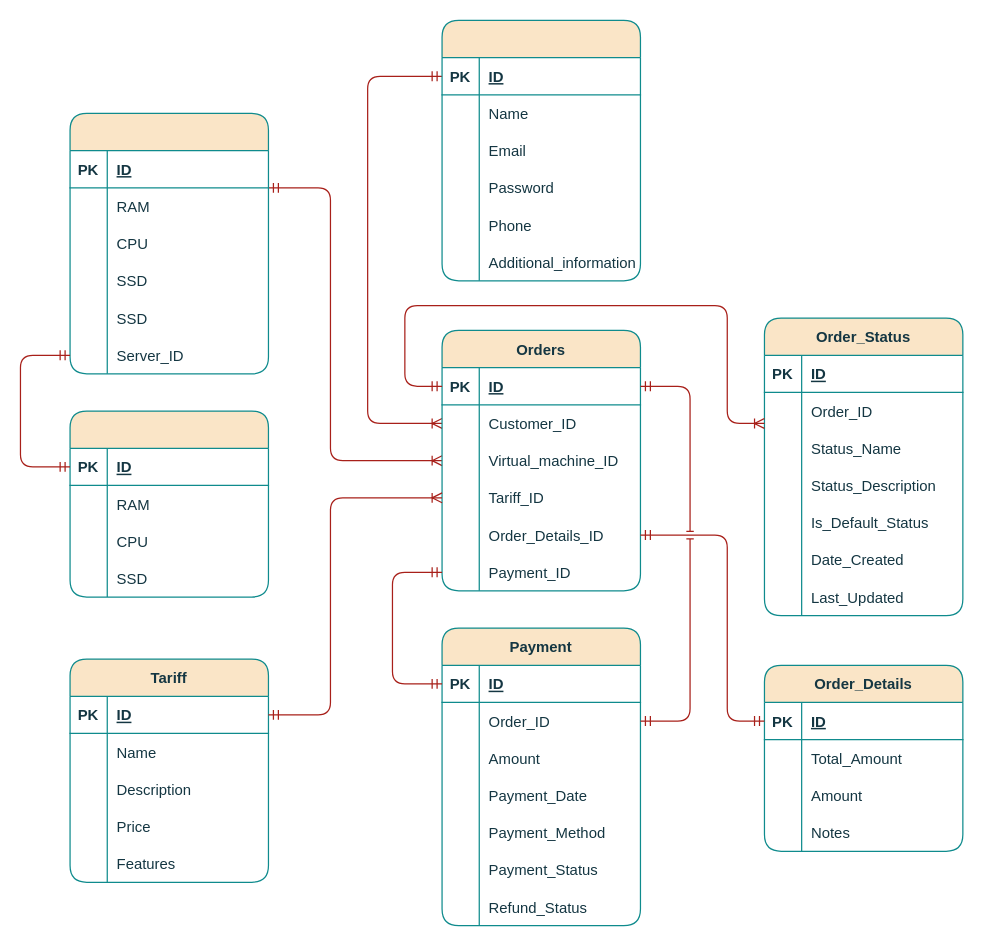
Some shapes in this 983 by 946 pixel diagram are drawn without their labels. The box of each missing label's shape, as (x1, y1, x2, y2) in pixels:
Customers: (441, 19, 640, 281)
Server: (69, 410, 268, 597)
Virtual_machine: (69, 112, 268, 374)
